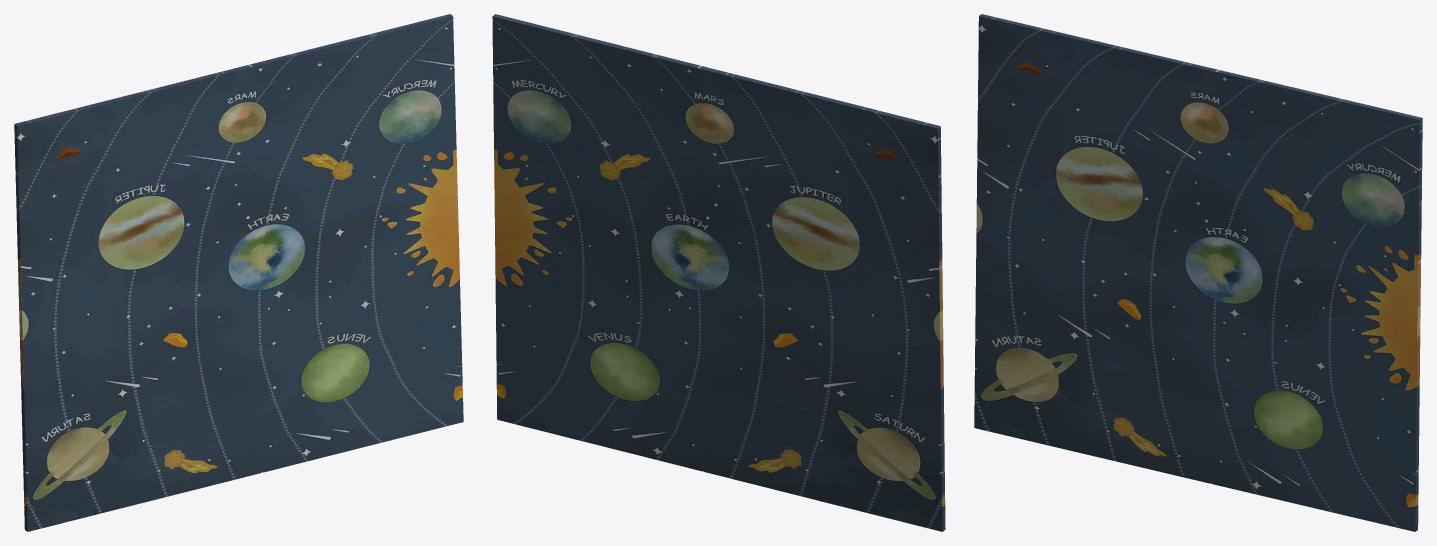
The picture shows the model from 3 angles, left to right: view 1: azimuth 30°, elevation 25°; view 2: azimuth 150°, elevation 25°; view 3: azimuth 330°, elevation 25°; orthographic projection. The views are drawn at different scales.
Parts seen in each view (by area): view 1: Mesh_0.005; view 2: Mesh_0.005; view 3: Mesh_0.005.
Boxes of the visible parts, box(x1,y1,x2,y2) form: Mesh_0.005: box(14, 14, 463, 531); Mesh_0.005: box(492, 14, 945, 531); Mesh_0.005: box(974, 14, 1422, 531).
Size of the model in its own units: 2.29 by 2.02 by 0.0955.
Materials: 1 (1 with a texture image).
